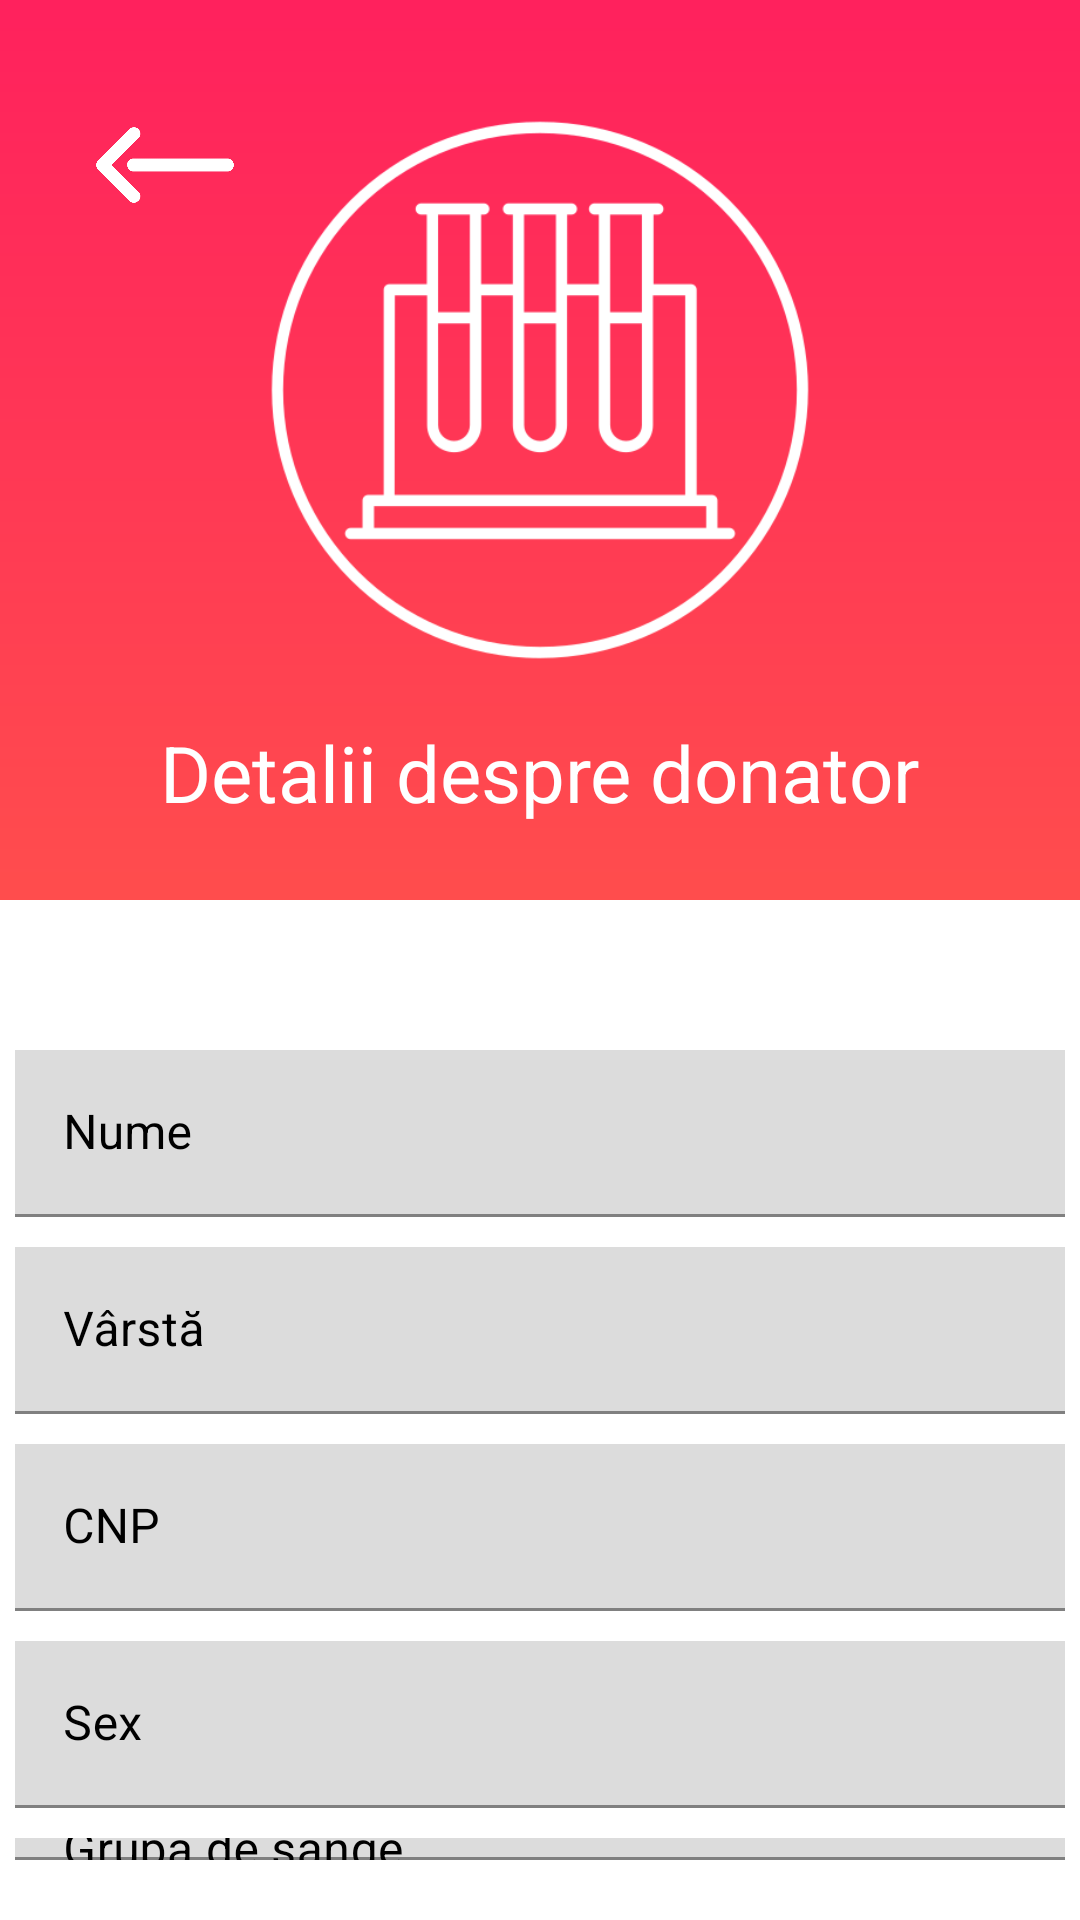

Locate icon controls on the screen. Image size 1080 × 1920, boxes as [x1,y1,x2,y2].
back: [96,127,234,203]
